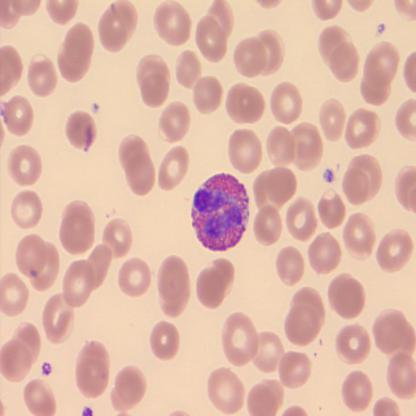Eosinophil: (191, 170, 252, 252)
